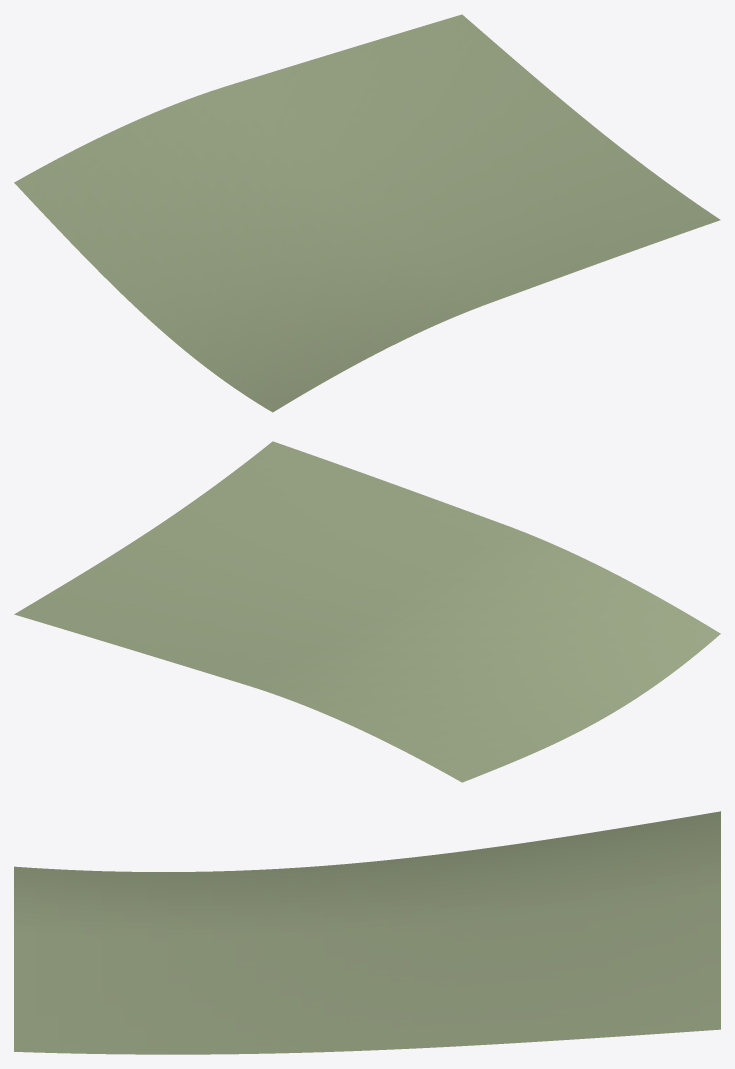
File: expanse-26-15.glb
3 renders of one model, top to bottom at view 1: azimuth 30°, elevation 25°; view 2: azimuth 150°, elevation 25°; view 3: azimuth 270°, elevation 25°, orthographic. The views are drawn at different scales.
Parts seen in each view (by area): view 1: expanse-26-15; view 2: expanse-26-15; view 3: expanse-26-15.
Boxes of the visible parts, x1,y1,x2,y2 form: expanse-26-15: (14, 14, 720, 412); expanse-26-15: (14, 441, 720, 782); expanse-26-15: (14, 811, 720, 1054).
Bounding box in the file's own units: 256 × 56.42 × 256.
